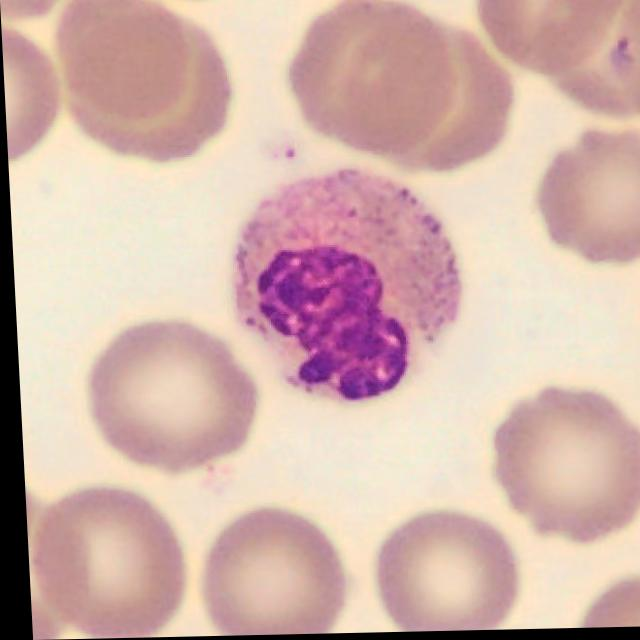Neutrofilo segmentado: (234, 174, 456, 404)
